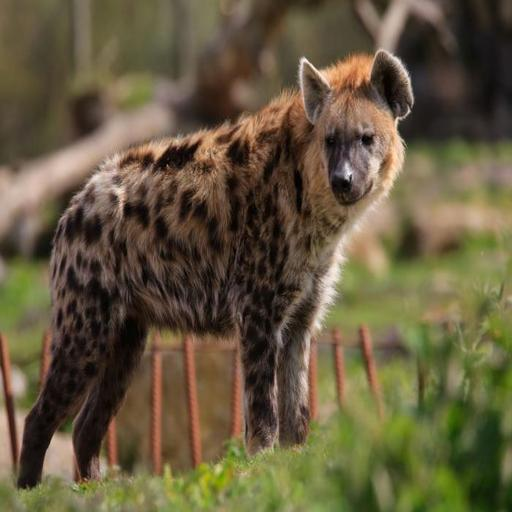Hyena: (0, 42, 418, 479)
